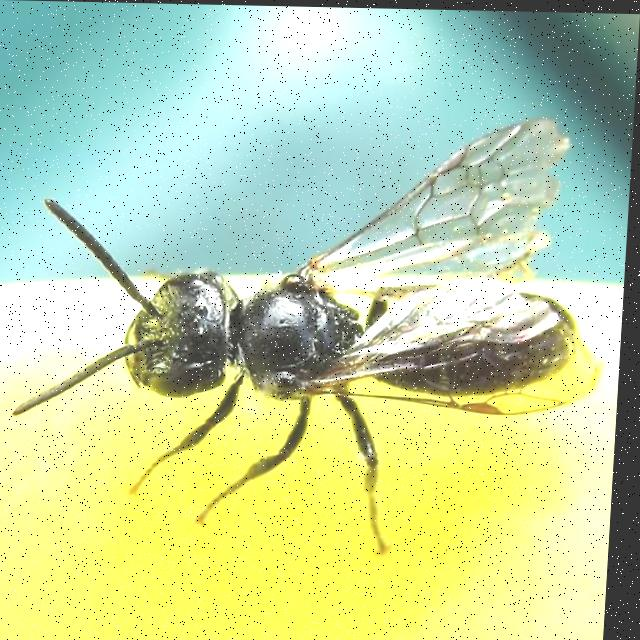Lasioglossum: (2, 96, 619, 566)
